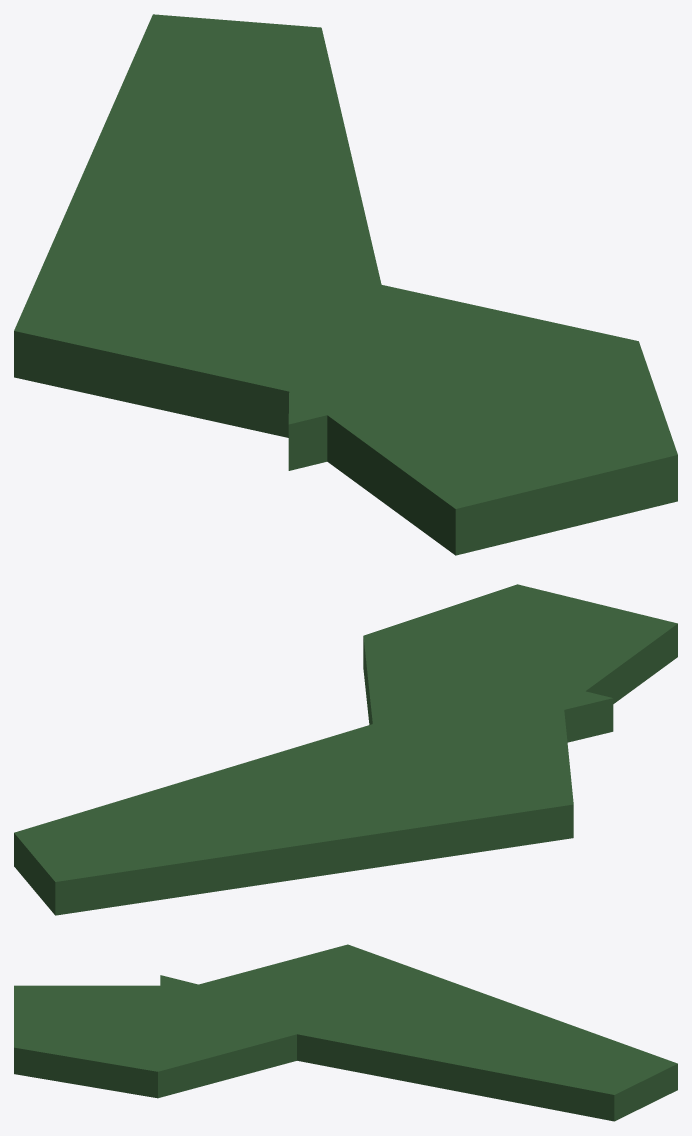
File: x_proval_00_101_1_rmstrd.fbx
The picture shows the model from 3 angles, top to bottom: view 1: azimuth 30°, elevation 25°; view 2: azimuth 150°, elevation 25°; view 3: azimuth 270°, elevation 25°; orthographic projection. The views are drawn at different scales.
Parts seen in each view (by area): view 1: x_proval_00_101_1_rmstrd1; view 2: x_proval_00_101_1_rmstrd1; view 3: x_proval_00_101_1_rmstrd1.
Part boxes in pixels (x1,y1,x2,y2): x_proval_00_101_1_rmstrd1: (14,14,677,555); x_proval_00_101_1_rmstrd1: (14,584,677,915); x_proval_00_101_1_rmstrd1: (14,944,677,1121).
Size of the model in its own units: 2.44 by 0.2 by 4.54.
